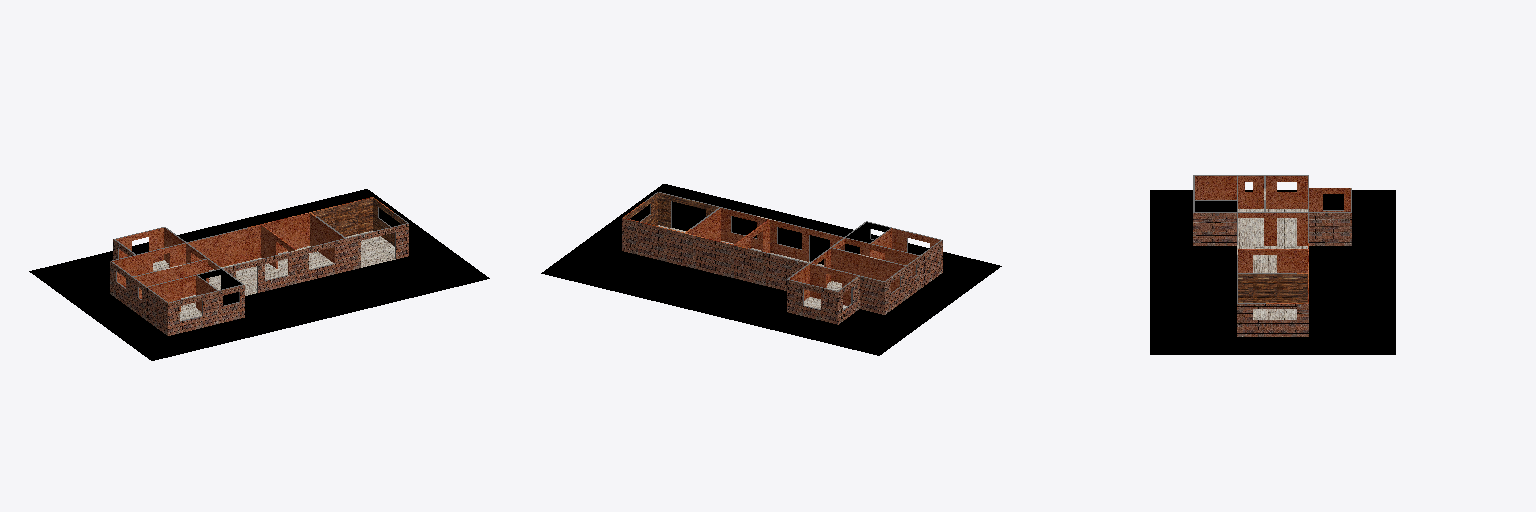
3 renders of one model, left to right at view 1: azimuth 30°, elevation 25°; view 2: azimuth 150°, elevation 25°; view 3: azimuth 270°, elevation 25°, orthographic.
Visible parts, largest first — view 1: Fachada:polySurface801; view 2: Fachada:polySurface801; view 3: Fachada:polySurface801.
Boxes of the visible parts, box(x1,y1,x2,y2) form: Fachada:polySurface801: box(29, 189, 489, 360); Fachada:polySurface801: box(541, 184, 1001, 355); Fachada:polySurface801: box(1150, 175, 1395, 354).
Size of the model in its own units: 181 by 16.72 by 120.
298 materials, 5 textured.